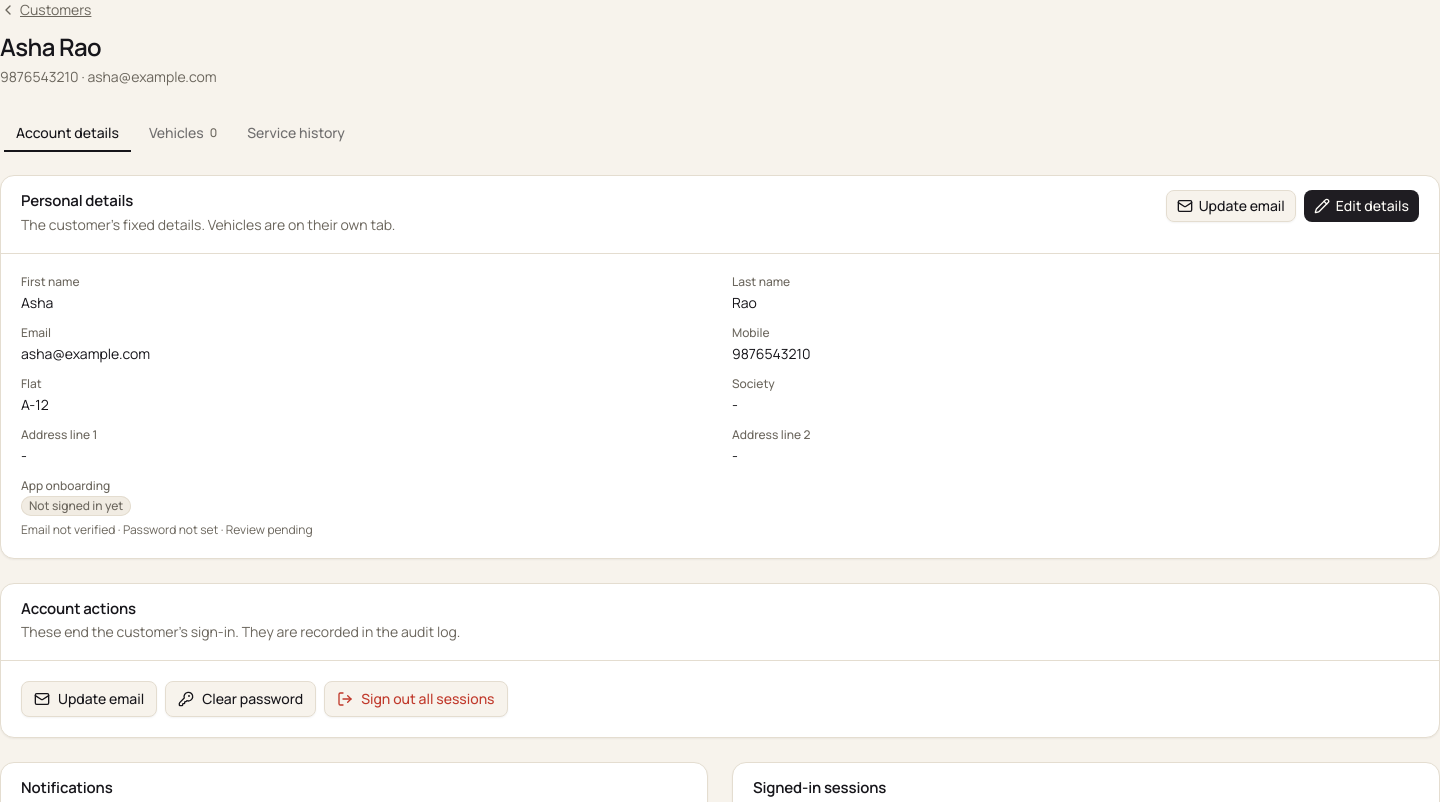
Test: shows imported Spa history without inventing completion or a date
Click the tab "Service history": (296, 133) [234,118,358,148]
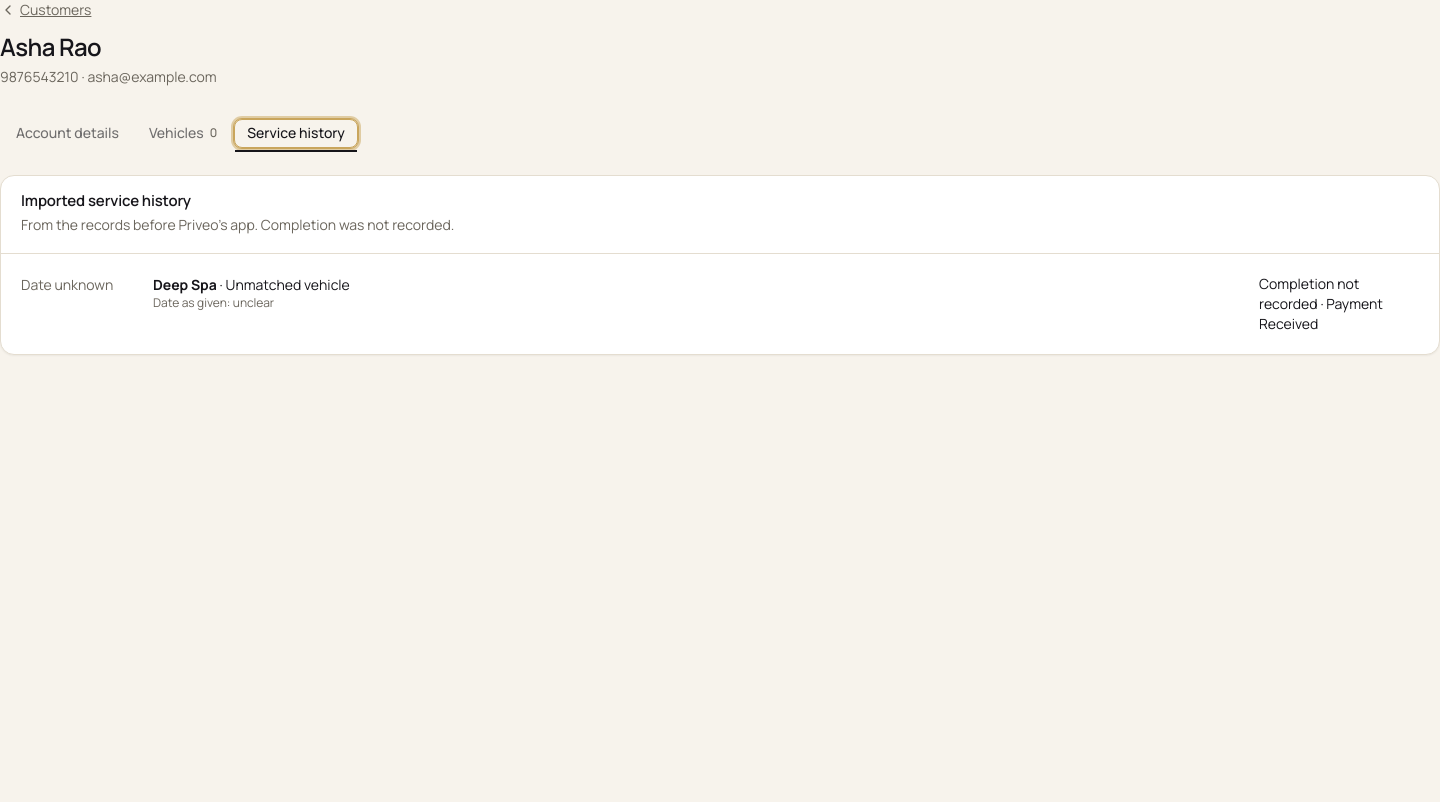
Result: the text "Date unknown" is shown at [21,274,113,294]
Result: the text "Completion not recorded · Payment Received" is shown at [1259,274,1383,332]
Result: the text "Date as given: unclear" is shown at [153,294,274,310]
